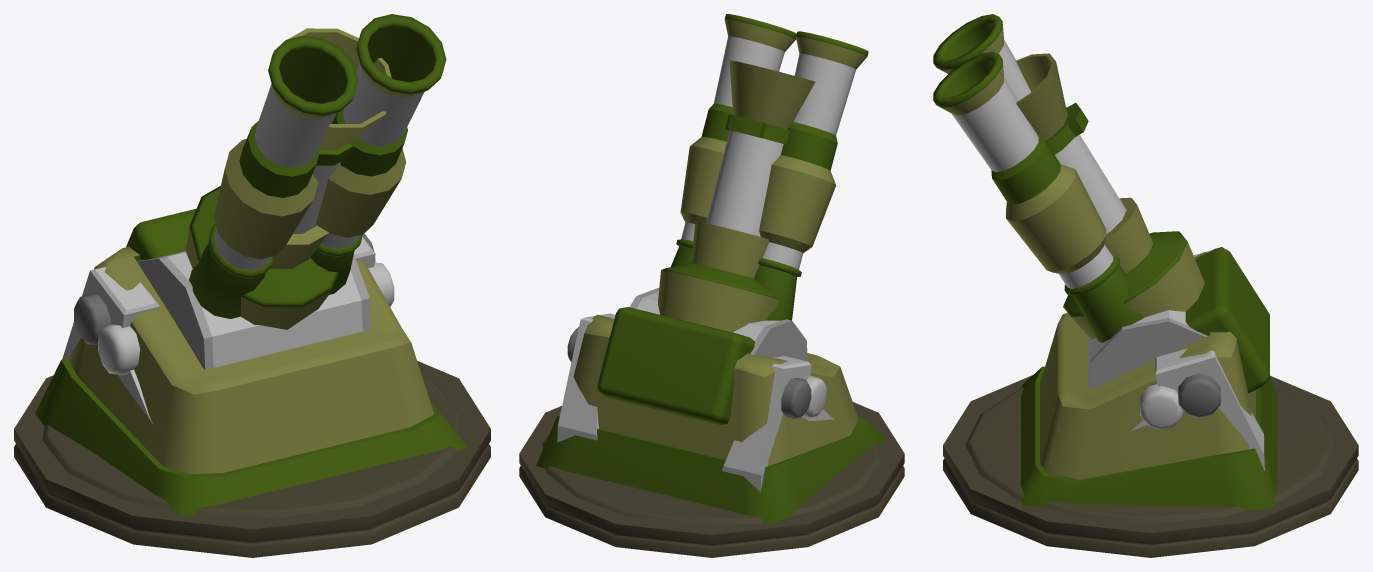
The model's file is mortar_2.3.fbx.
3 renders of one model, left to right at view 1: azimuth 30°, elevation 25°; view 2: azimuth 150°, elevation 25°; view 3: azimuth 270°, elevation 25°, orthographic. The views are drawn at different scales.
Parts seen in each view (by area): view 1: tower (×2), base (×3), barrel1, MortarTower_TURRET_L02, barrel2; view 2: tower (×2), MortarTower_TURRET_L02, base (×3), barrel1, barrel2; view 3: base (×3), tower (×2), MortarTower_TURRET_L02, barrel2, barrel1.
Boxes of the visible parts, x1,y1,x2,y2 form: tower (×2): (35,233,467,516); base (×3): (14,14,490,557); barrel1: (189,35,357,318); MortarTower_TURRET_L02: (126,28,391,329); barrel2: (137,251,370,369); tower (×2): (536,313,885,523); MortarTower_TURRET_L02: (597,60,815,424); base (×3): (519,14,904,557); barrel1: (754,31,868,320); barrel2: (629,288,807,361); base (×3): (933,51,1358,557); tower (×2): (1021,250,1277,510); MortarTower_TURRET_L02: (1016,53,1269,393); barrel2: (1088,310,1207,388); barrel1: (933,14,1030,100).
Size of the model in its own units: 6.49 by 7.44 by 6.64.
Materials: 1 (1 with a texture image).
